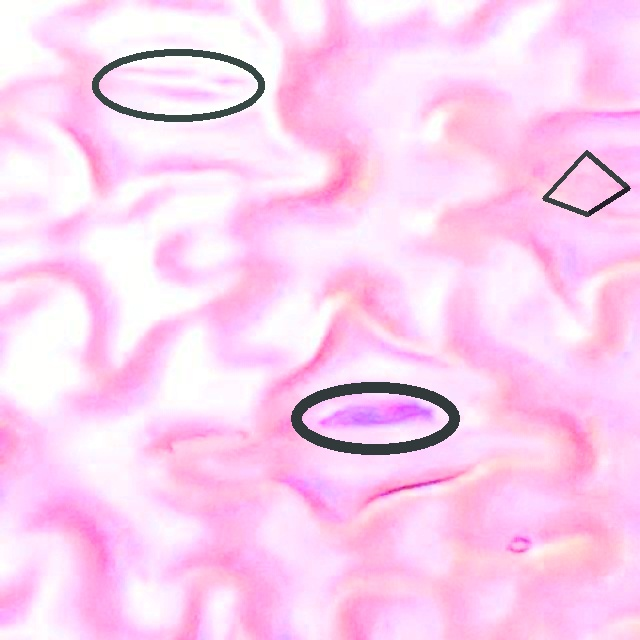open: (290, 381, 459, 456), (91, 49, 265, 120), (542, 150, 630, 215)
